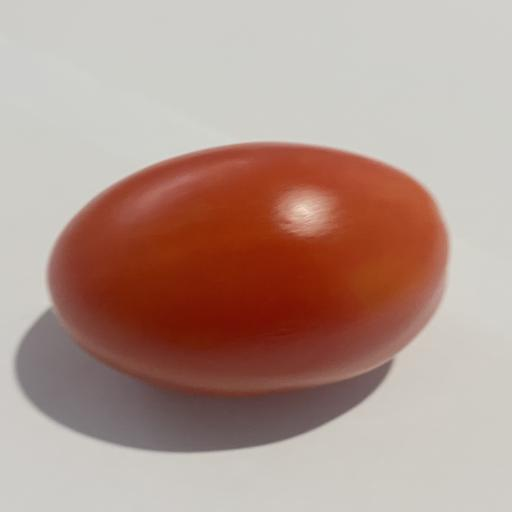ripe: (49, 144, 447, 395)
